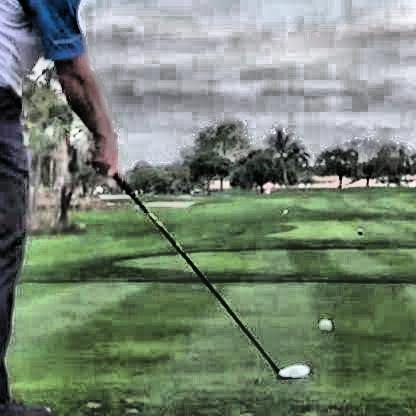golfball: (315, 315, 330, 331)
